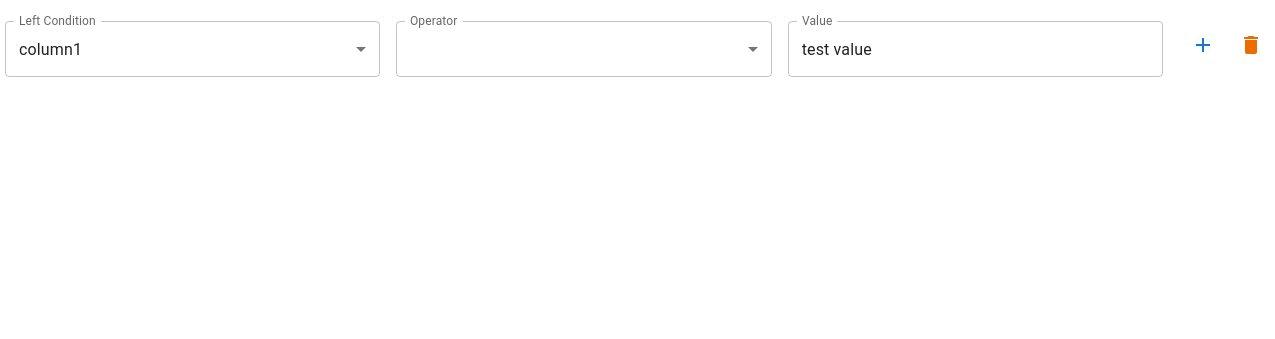
Test case: CriteriaRow › Rendering › should render all operator options in Operator select
This screenshot has width=1275, height=339.
Press the mouse on the dropdown named "Operator" at (584, 49), box [396,21,772,77]
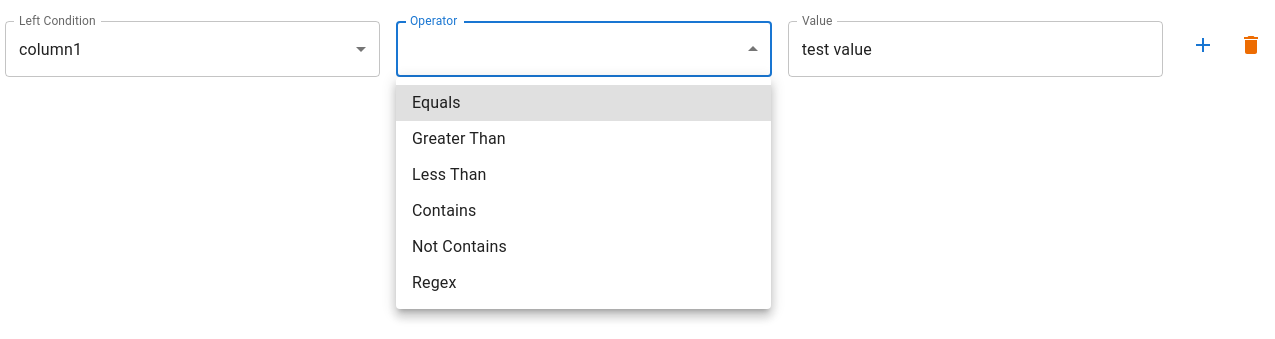
Check: the option "Equals" is shown, box [396,85,771,121]
Check: the option "Greater Than" is shown, box [412,129,506,148]
Check: the option "Less Than" is shown, box [412,165,486,184]
